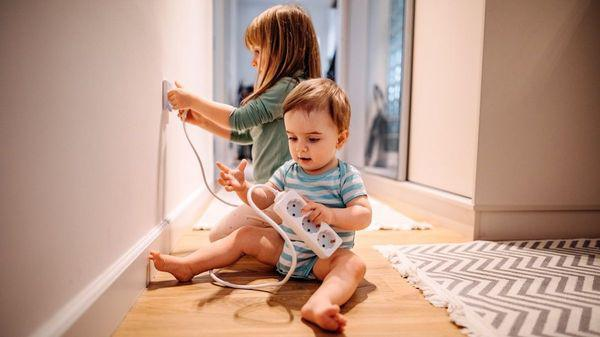child: (144, 84, 390, 329), (175, 10, 326, 198)
